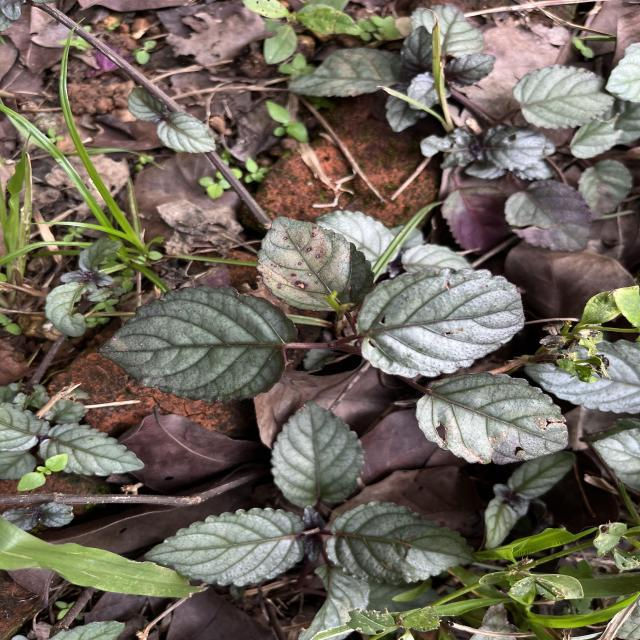Hemigraphis colorata: (94, 278, 300, 406), (352, 263, 530, 382), (412, 368, 574, 468), (138, 505, 314, 590), (320, 498, 482, 590), (254, 213, 378, 316), (266, 396, 368, 509), (34, 421, 148, 476), (154, 108, 220, 156), (124, 85, 172, 124)
